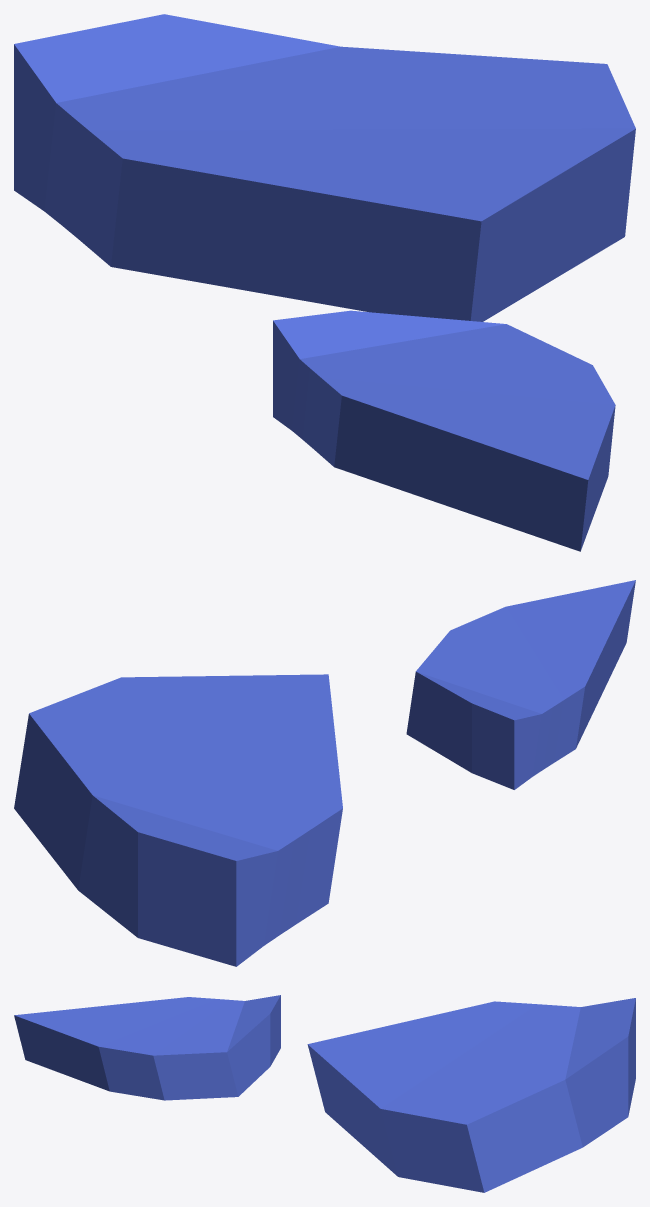
Rendered from koifishRightFin.glb.
3 renders of one model, top to bottom at view 1: azimuth 30°, elevation 25°; view 2: azimuth 150°, elevation 25°; view 3: azimuth 270°, elevation 25°, orthographic. The views are drawn at different scales.
Parts seen in each view (by area): view 1: Fin2.003; view 2: Fin2.003; view 3: Fin2.003.
Boxes of the visible parts, x1,y1,x2,y2 form: Fin2.003: (14,14,635,551); Fin2.003: (14,580,635,966); Fin2.003: (14,995,635,1192).
Bounding box in the file's own units: 4.58 × 1.23 × 8.56.
